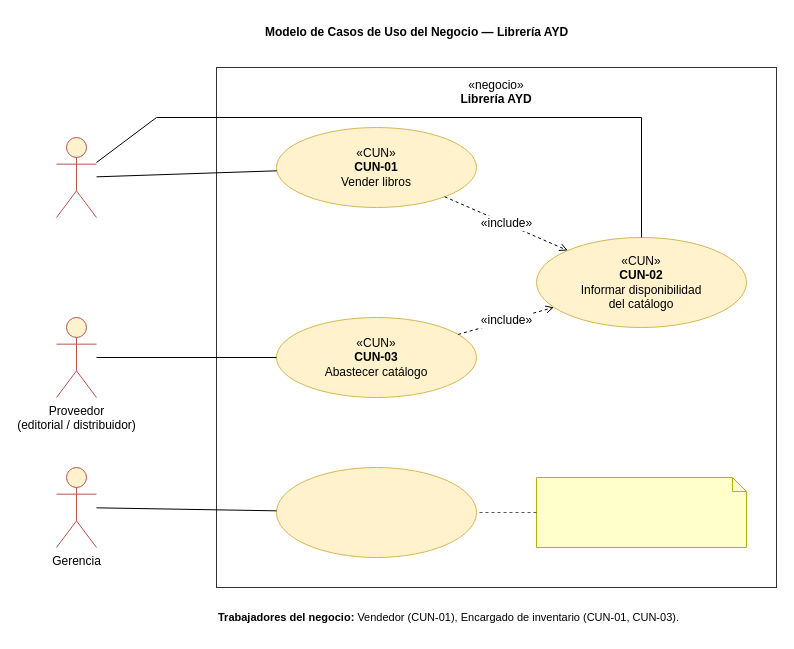
The diagram is 794 pixels wide and 649 high, and some of its shapes have lost their labels. Here are the shapes that lost their labels. From the top down, the centre of each, then its label:
At point (76, 177): "Cliente".
At point (376, 512): "«CUN» CUN-04 Analizar títulos más vendidos".
At point (641, 512): "Proceso gerencial de apoyo: define qué títulos reabastecer (alimenta CUN-03).".
